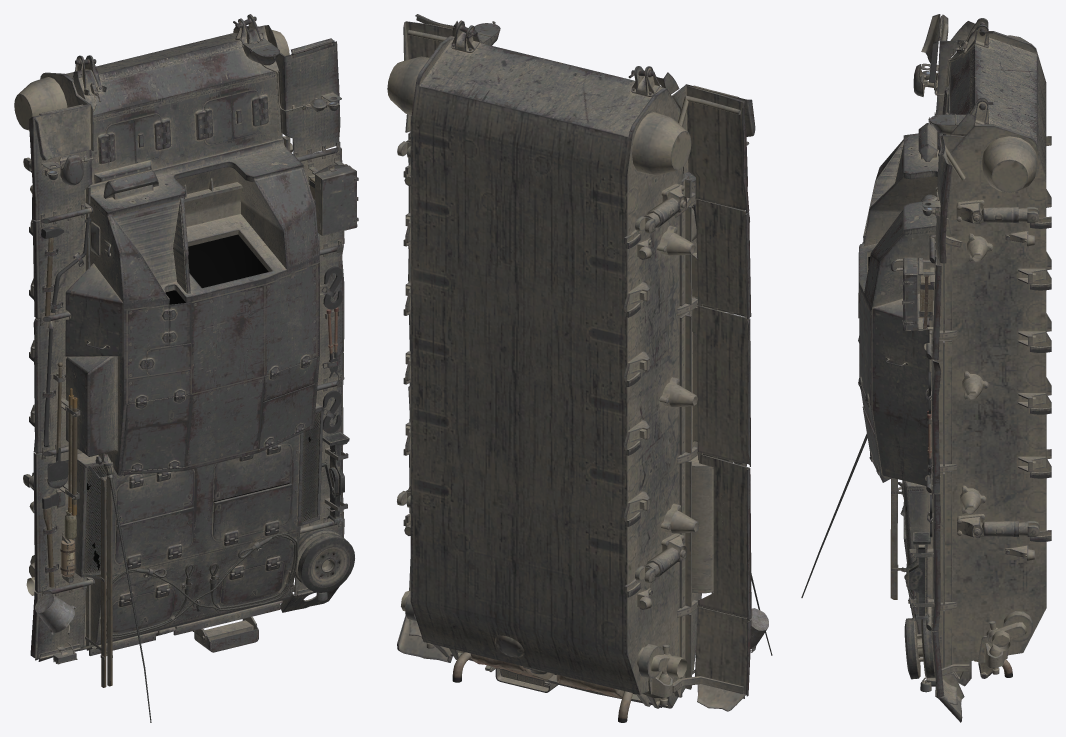
Rendered from Hull.glb.
3 views of the same model, side by side, from view 1: azimuth 30°, elevation 25°; view 2: azimuth 150°, elevation 25°; view 3: azimuth 270°, elevation 25° (orthographic). The views are drawn at different scales.
Parts seen in each view (by area): view 1: set_0_group_0; view 2: set_0_group_0; view 3: set_0_group_0.
Boxes of the visible parts, box(x1,y1,x2,y2) form: set_0_group_0: box(14, 14, 358, 722); set_0_group_0: box(387, 14, 772, 722); set_0_group_0: box(801, 14, 1051, 722).
Bounding box in the file's own units: 3 × 5.45 × 2.07.
1 material, 1 textured.
